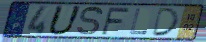4: (26, 4, 47, 36)
D: (149, 7, 180, 37)
F: (100, 7, 132, 36)
L: (128, 8, 148, 36)
S: (76, 5, 105, 37)
U: (46, 4, 84, 37)
